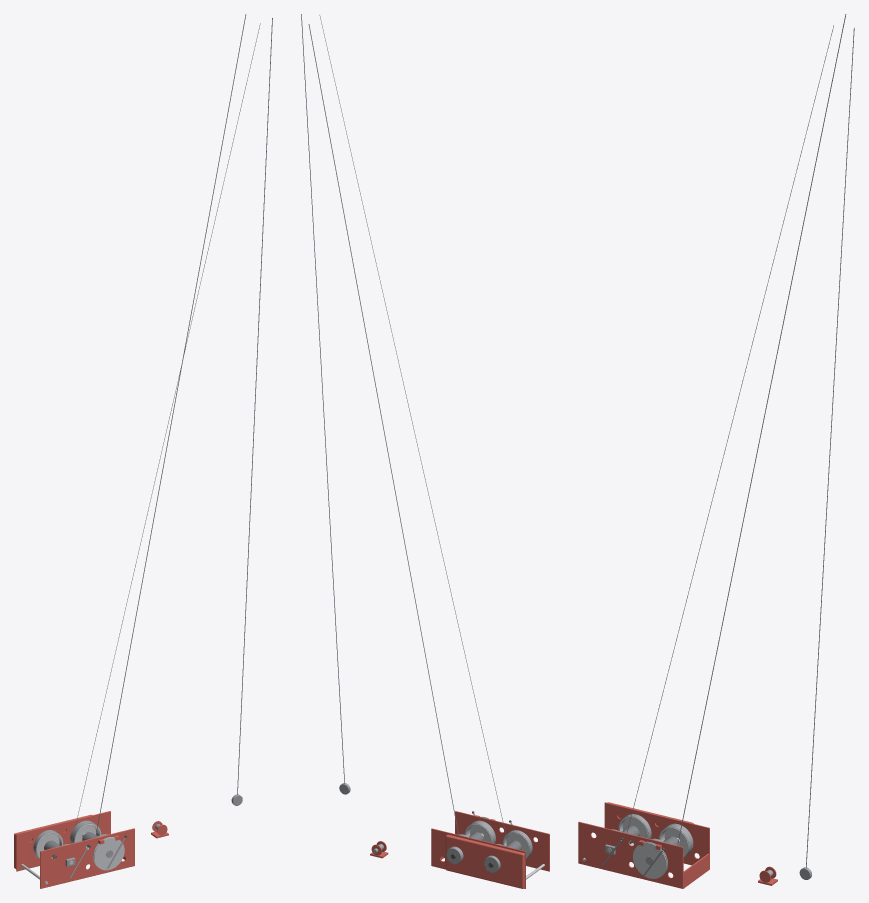
File: sk575_cuadro.glb
The picture shows the model from 3 angles, left to right: view 1: azimuth 30°, elevation 25°; view 2: azimuth 150°, elevation 25°; view 3: azimuth 330°, elevation 25°; orthographic projection. The views are drawn at different scales.
Parts seen in each view (by area): view 1: sk575_cuadro_rojo, sk575_cuadro_cable, sk575_cuadro_acero, sk575_cuadro_acero_oscuro; view 2: sk575_cuadro_rojo, sk575_cuadro_cable, sk575_cuadro_acero_oscuro, sk575_cuadro_acero; view 3: sk575_cuadro_rojo, sk575_cuadro_cable, sk575_cuadro_acero, sk575_cuadro_acero_oscuro.
Part boxes in pixels (x1=…): sk575_cuadro_rojo: x1=14, y1=811, x2=168, y2=888; sk575_cuadro_cable: x1=44, y1=14, x2=272, y2=857; sk575_cuadro_acero: x1=21, y1=824, x2=124, y2=884; sk575_cuadro_acero_oscuro: x1=33, y1=794, x2=242, y2=878; sk575_cuadro_rojo: x1=370, y1=811, x2=549, y2=888; sk575_cuadro_cable: x1=301, y1=14, x2=521, y2=849; sk575_cuadro_acero_oscuro: x1=339, y1=783, x2=532, y2=872; sk575_cuadro_acero: x1=465, y1=816, x2=544, y2=879; sk575_cuadro_rojo: x1=578, y1=802, x2=777, y2=888; sk575_cuadro_cable: x1=621, y1=14, x2=854, y2=867; sk575_cuadro_acero: x1=582, y1=816, x2=688, y2=878; sk575_cuadro_acero_oscuro: x1=602, y1=814, x2=811, y2=879.
Size of the model in its own units: 9.7 by 31.07 by 2.46.
